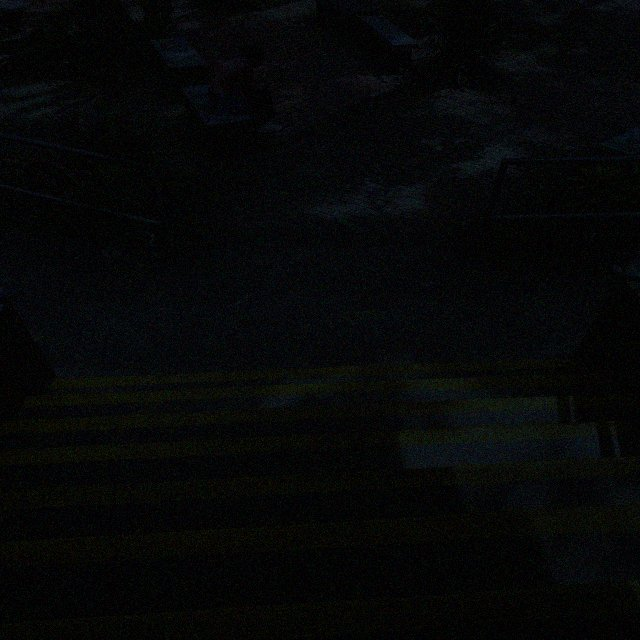stair: (0, 359, 639, 639)
